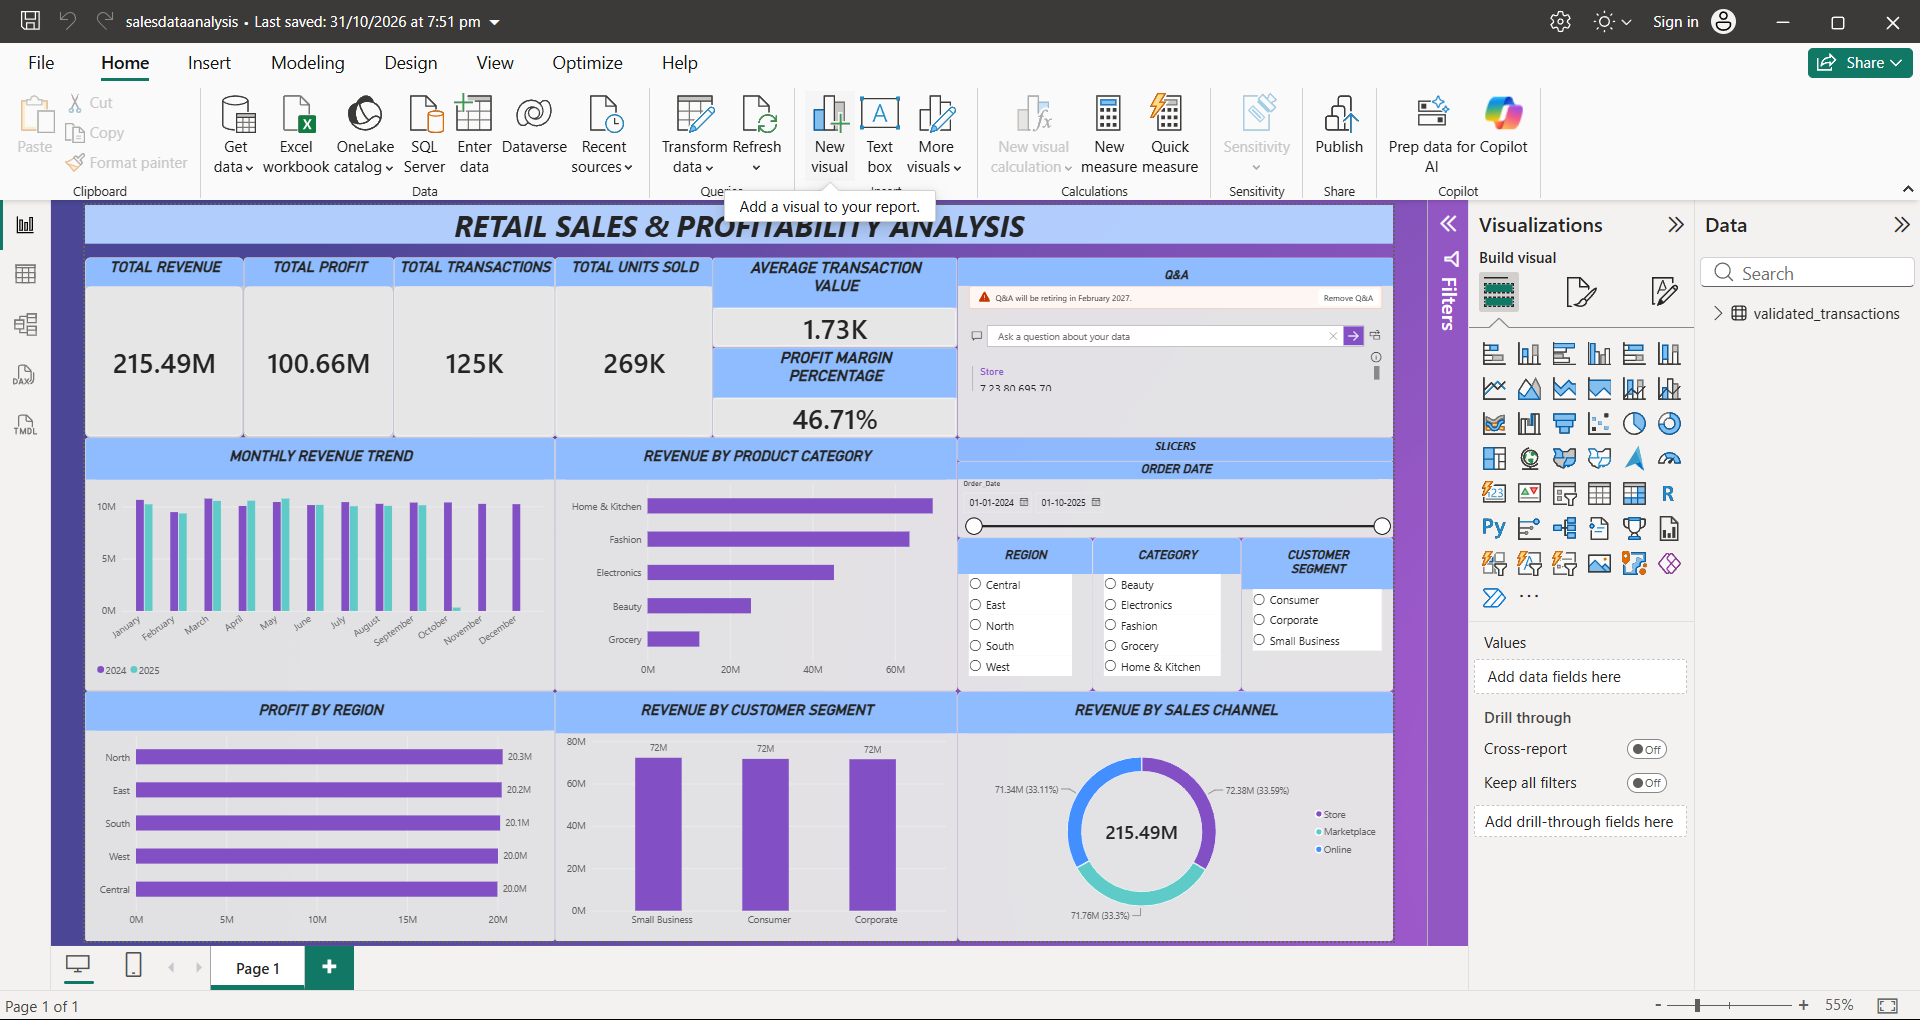

Layout of this report page (visuals, bound fields, positions):
{"tool":"powerbi","page":{"name":"Page 1","canvas":[1920,1080],"ordinal":0},"visuals":[{"type":"textbox","box":[0,0,1920.5,56.9],"z":0},{"type":"cardVisual","title":"TOTAL REVENUE","fields":{"Data":["validated_transactions.Total Revenue"]},"box":[0,77,232.9,264.1],"z":1},{"type":"cardVisual","title":"TOTAL TRANSACTIONS","fields":{"Data":["validated_transactions.Total Transactions"]},"box":[453.1,77,236.6,264.1],"z":3},{"type":"cardVisual","title":"TOTAL UNITS SOLD","fields":{"Data":["validated_transactions.Total Units Sold"]},"box":[689.7,77,231.1,264.1],"z":4},{"type":"cardVisual","title":"PROFIT MARGIN PERCENTAGE","fields":{"Data":["validated_transactions.Profit Margin"]},"box":[920.8,209.1,359.5,132.1],"z":6},{"type":"cardVisual","title":"TOTAL PROFIT","fields":{"Data":["validated_transactions.Total Profit"]},"box":[232.9,77,220.1,264.1],"z":7},{"type":"clusteredColumnChart","title":"MONTHLY REVENUE TREND","fields":{"Category":["validated_transactions.Order_Date.Variation.Date Hierarchy.Month"],"Series":["validated_transactions.Order_Date.Variation.Date Hierarchy.Year"],"Y":["Sum(validated_transactions.Sales_Amount_INR)"]},"box":[0,341.2,689.7,372.4],"z":8},{"type":"clusteredBarChart","title":"REVENUE BY PRODUCT CATEGORY","fields":{"Category":["validated_transactions.Category"],"Y":["Sum(validated_transactions.Sales_Amount_INR)"]},"box":[689.7,341.2,590.6,372.4],"z":9},{"type":"clusteredBarChart","title":"PROFIT BY REGION","fields":{"Category":["validated_transactions.Region"],"Y":["validated_transactions.Total Profit"]},"box":[0,713.5,689.7,366.8],"z":10},{"type":"clusteredColumnChart","title":"REVENUE BY CUSTOMER SEGMENT","fields":{"Category":["validated_transactions.Customer_Segment"],"Y":["validated_transactions.Total Revenue"]},"box":[689.7,713.5,590.6,366.8],"z":11},{"type":"donutChart","title":"REVENUE BY SALES CHANNEL","fields":{"Category":["validated_transactions.Sales_Channel"],"Y":["validated_transactions.Total Revenue"]},"box":[1280.3,713.5,640.2,366.8],"z":12},{"type":"slicer","title":"ORDER DATE","fields":{"Values":["validated_transactions.Order_Date"]},"box":[1280.3,376,640.2,111.9],"z":13},{"type":"listSlicer","title":"REGION","fields":{"Values":["validated_transactions.Region"]},"box":[1280.3,487.9,198.1,225.6],"z":14},{"type":"listSlicer","title":"CATEGORY","fields":{"Values":["validated_transactions.Category"]},"box":[1478.4,487.9,218.3,225.6],"z":15},{"type":"listSlicer","title":"CUSTOMER SEGMENT","fields":{"Values":["validated_transactions.Customer_Segment"]},"box":[1696.7,487.9,223.8,225.6],"z":16},{"type":"qnaVisual","title":"Q&A","box":[1280.3,77,640.2,264.1],"z":17},{"type":"cardVisual","title":"AVERAGE TRANSACTION VALUE","fields":{"Data":["validated_transactions.Average Transaction Value"]},"box":[920.8,77,359.5,132.1],"z":18},{"type":"textbox","box":[1280.3,341.2,640.2,34.9],"z":19}]}

Visuals, with their boxes on the page's 1920x1080 design canvas (x1, y1, x2, y2). These are canvas units, not pixel positions in the 1920x1020 screenshot, which may show the page scaled, cropped or inside an application window:
textbox: <region>0, 0, 1920, 57</region>
"TOTAL REVENUE" cardVisual: <region>0, 77, 233, 341</region>
"TOTAL TRANSACTIONS" cardVisual: <region>453, 77, 690, 341</region>
"TOTAL UNITS SOLD" cardVisual: <region>690, 77, 921, 341</region>
"PROFIT MARGIN PERCENTAGE" cardVisual: <region>921, 209, 1280, 341</region>
"TOTAL PROFIT" cardVisual: <region>233, 77, 453, 341</region>
"MONTHLY REVENUE TREND" clusteredColumnChart: <region>0, 341, 690, 714</region>
"REVENUE BY PRODUCT CATEGORY" clusteredBarChart: <region>690, 341, 1280, 714</region>
"PROFIT BY REGION" clusteredBarChart: <region>0, 714, 690, 1080</region>
"REVENUE BY CUSTOMER SEGMENT" clusteredColumnChart: <region>690, 714, 1280, 1080</region>
"REVENUE BY SALES CHANNEL" donutChart: <region>1280, 714, 1920, 1080</region>
"ORDER DATE" slicer: <region>1280, 376, 1920, 488</region>
"REGION" listSlicer: <region>1280, 488, 1478, 714</region>
"CATEGORY" listSlicer: <region>1478, 488, 1697, 714</region>
"CUSTOMER SEGMENT" listSlicer: <region>1697, 488, 1920, 714</region>
"Q&A" qnaVisual: <region>1280, 77, 1920, 341</region>
"AVERAGE TRANSACTION VALUE" cardVisual: <region>921, 77, 1280, 209</region>
textbox: <region>1280, 341, 1920, 376</region>
